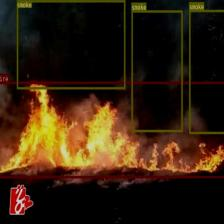fire: (0, 81, 224, 178)
smoke: (16, 0, 125, 89), (132, 10, 182, 132), (188, 9, 224, 133)
